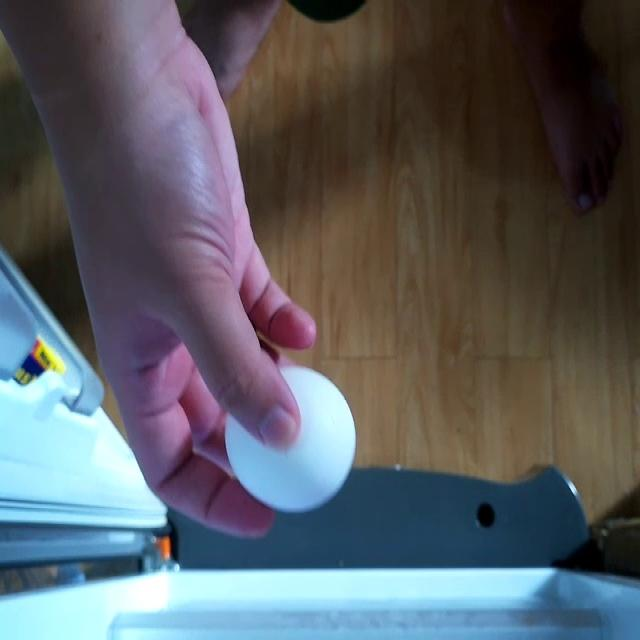egg: (222, 368, 351, 511)
